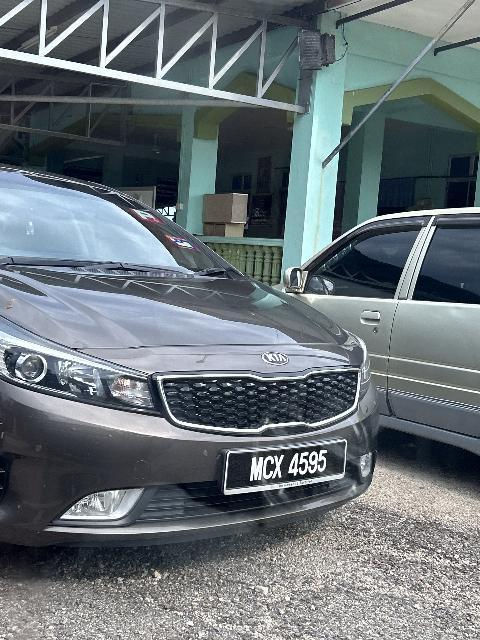License_Plate: (220, 436, 348, 501)
MCX4595: (220, 436, 348, 501)
car: (1, 160, 385, 560)
